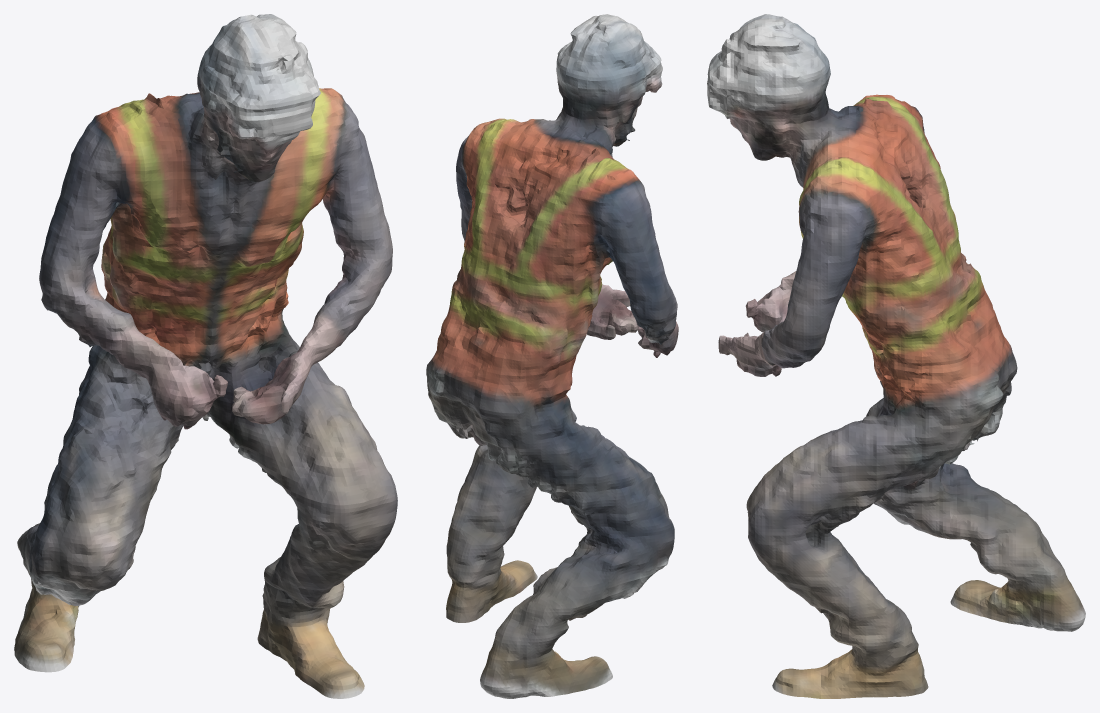
File: standup_8.glb
The picture shows the model from 3 angles, left to right: view 1: azimuth 30°, elevation 25°; view 2: azimuth 150°, elevation 25°; view 3: azimuth 270°, elevation 25°; orthographic projection. The views are drawn at different scales.
Visible parts, largest first — view 1: world; view 2: world; view 3: world.
Boxes of the visible parts, box(x1,y1,x2,y2) form: world: box(14, 14, 397, 698); world: box(426, 14, 678, 698); world: box(707, 14, 1085, 698).
Size of the model in its own units: 0.7086 by 1.55 by 0.8534.
